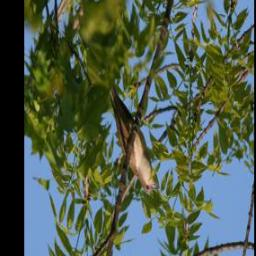Cuckoo: (107, 82, 157, 193)
